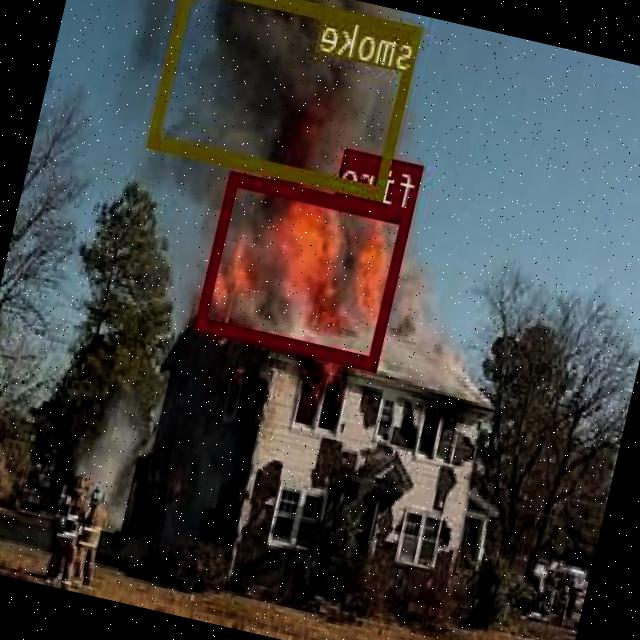fire: (196, 168, 414, 370)
smoke: (149, 0, 426, 197)
